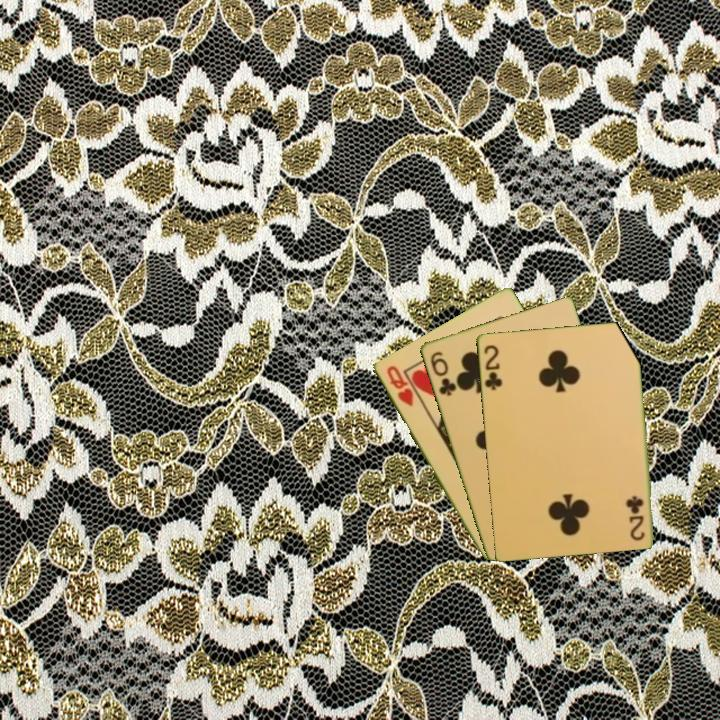2c: (480, 341, 505, 393), (625, 492, 647, 543)
6c: (427, 348, 459, 399)
Qh: (383, 362, 416, 409)
